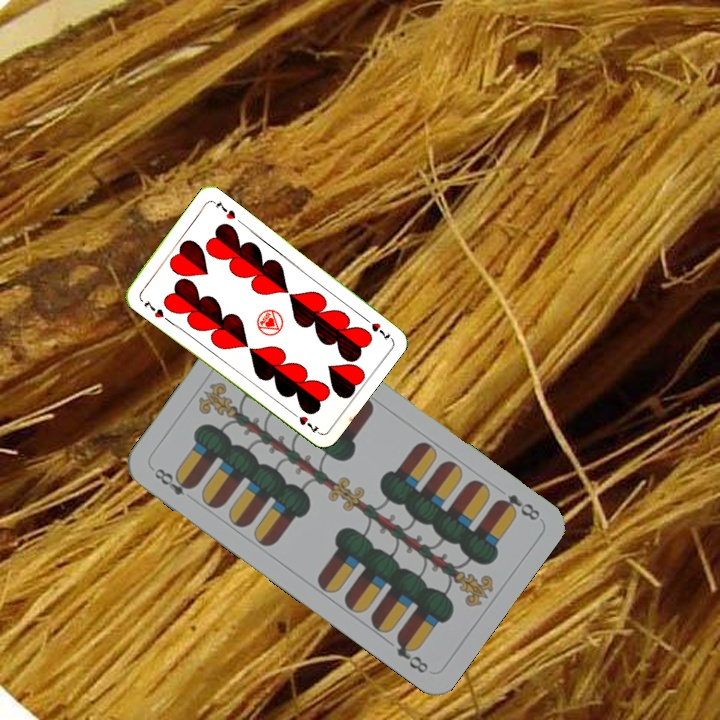E8: (491, 489, 543, 524), (150, 464, 197, 499)
H7: (359, 312, 394, 343), (140, 295, 171, 324)
